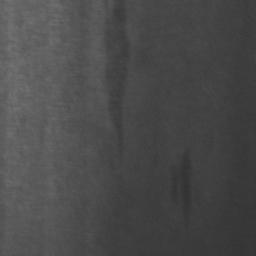Inclusion: (102, 0, 131, 148), (180, 151, 195, 224)
